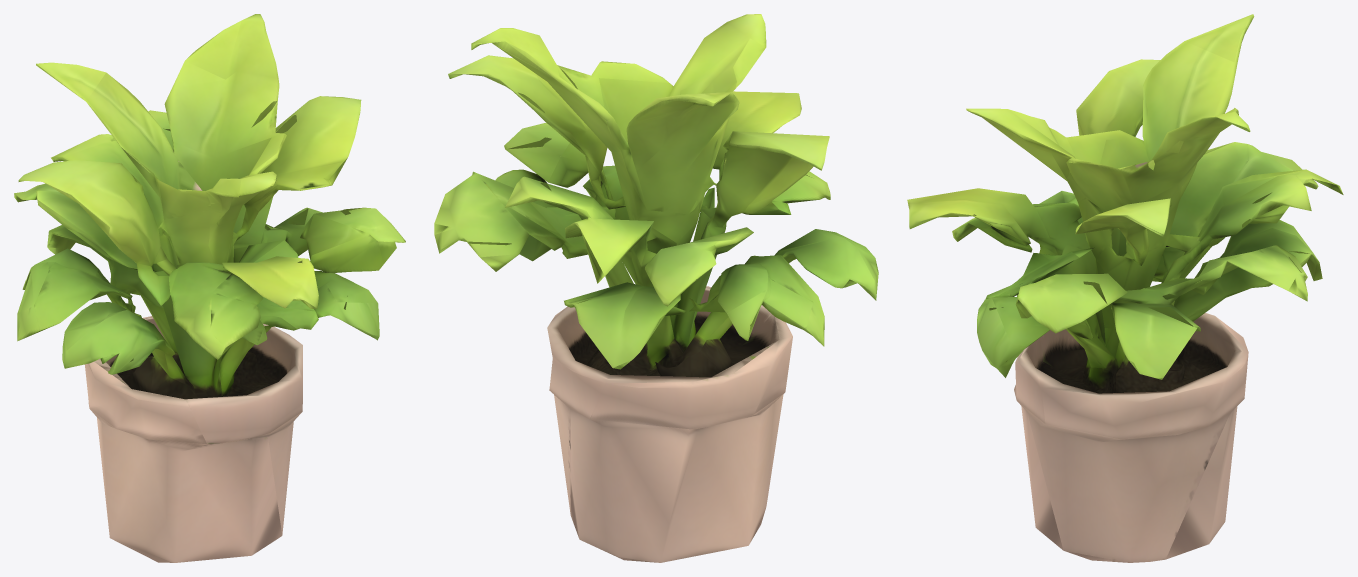
Rendered from plant_small_mobile.glb.
3 renders of one model, left to right at view 1: azimuth 30°, elevation 25°; view 2: azimuth 150°, elevation 25°; view 3: azimuth 270°, elevation 25°, orthographic. The views are drawn at different scales.
Visible parts, largest first — view 1: model; view 2: model; view 3: model.
Boxes of the visible parts, bbox=[...] form: model: bbox=[14, 14, 405, 562]; model: bbox=[434, 14, 878, 562]; model: bbox=[907, 14, 1343, 562].
Size of the model in its own units: 1.49 by 1.89 by 1.6.
Materials: 1 (1 with a texture image).
